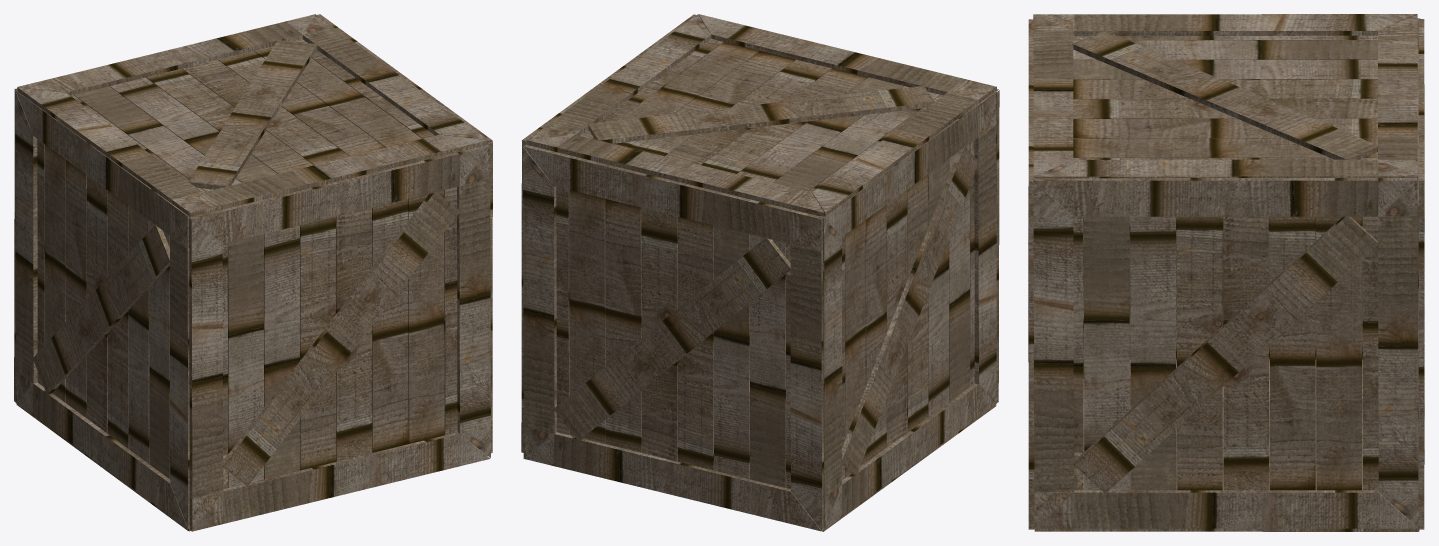
Rendered from Woodd.fbx.
3 renders of one model, left to right at view 1: azimuth 30°, elevation 25°; view 2: azimuth 150°, elevation 25°; view 3: azimuth 270°, elevation 25°, orthographic. The views are drawn at different scales.
Visible parts, largest first — view 1: Plane.002; view 2: Plane.002; view 3: Plane.002.
Part boxes in pixels (x1=…): Plane.002: x1=14, y1=14, x2=492, y2=531; Plane.002: x1=521, y1=14, x2=999, y2=531; Plane.002: x1=1028, y1=14, x2=1424, y2=531.
Size of the model in its own units: 204 by 205 by 207.
